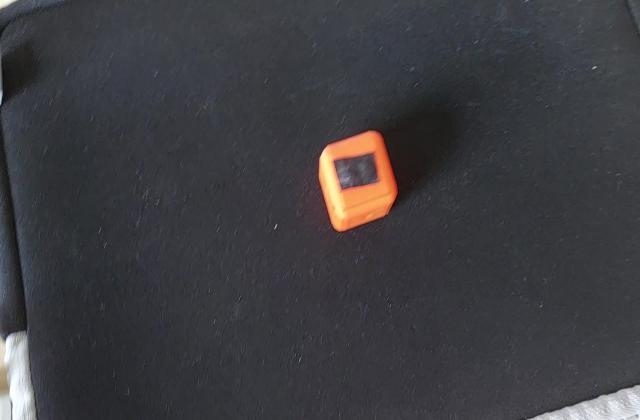black: (328, 148, 386, 194)
sticker: (315, 128, 400, 237)
